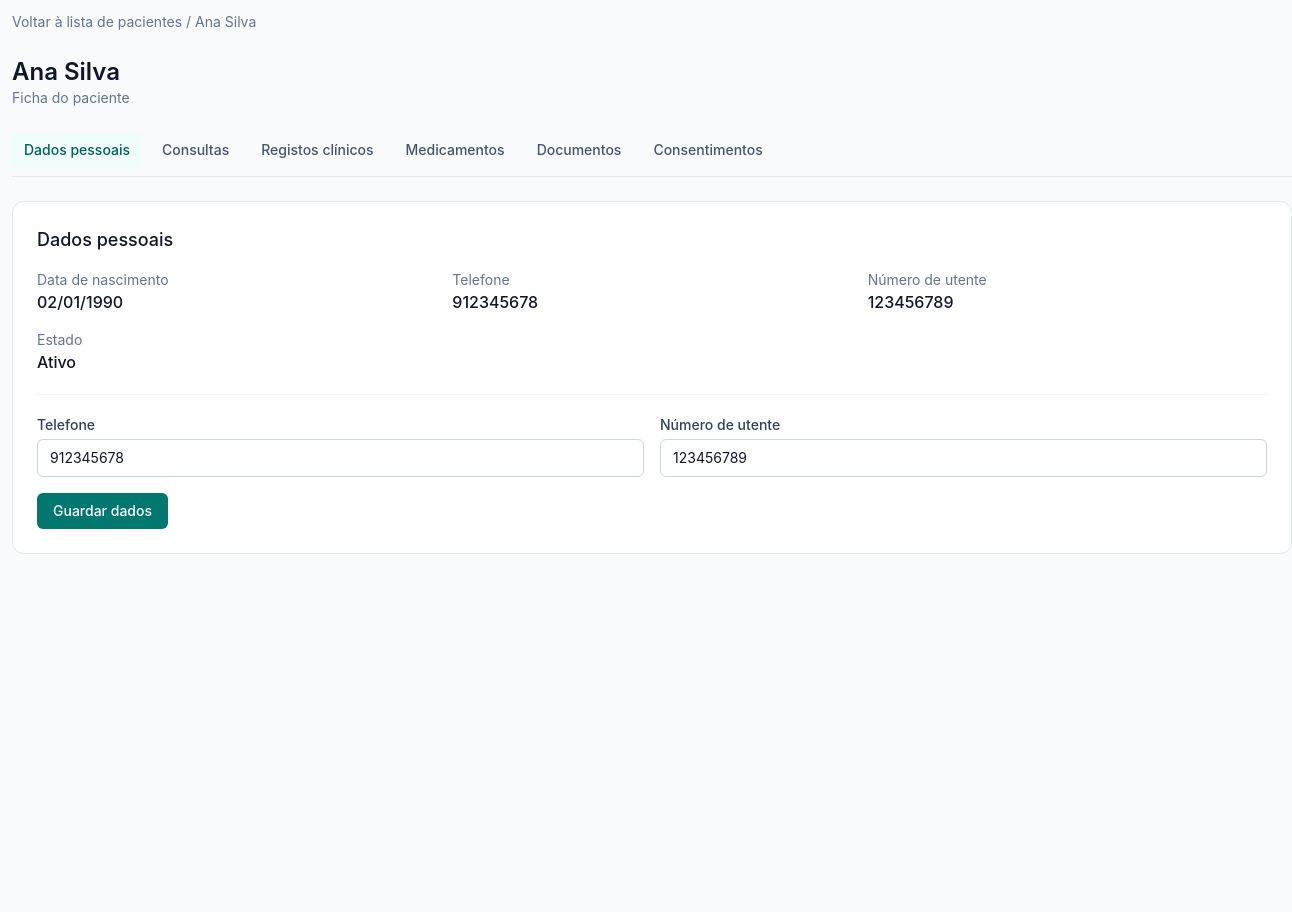
Test: PatientDetailPage documents tab › lets a doctor open the patient documents with upload controls and the patient name
Click the tab "Documentos".
click(579, 150)  # box [525,132,633,168]
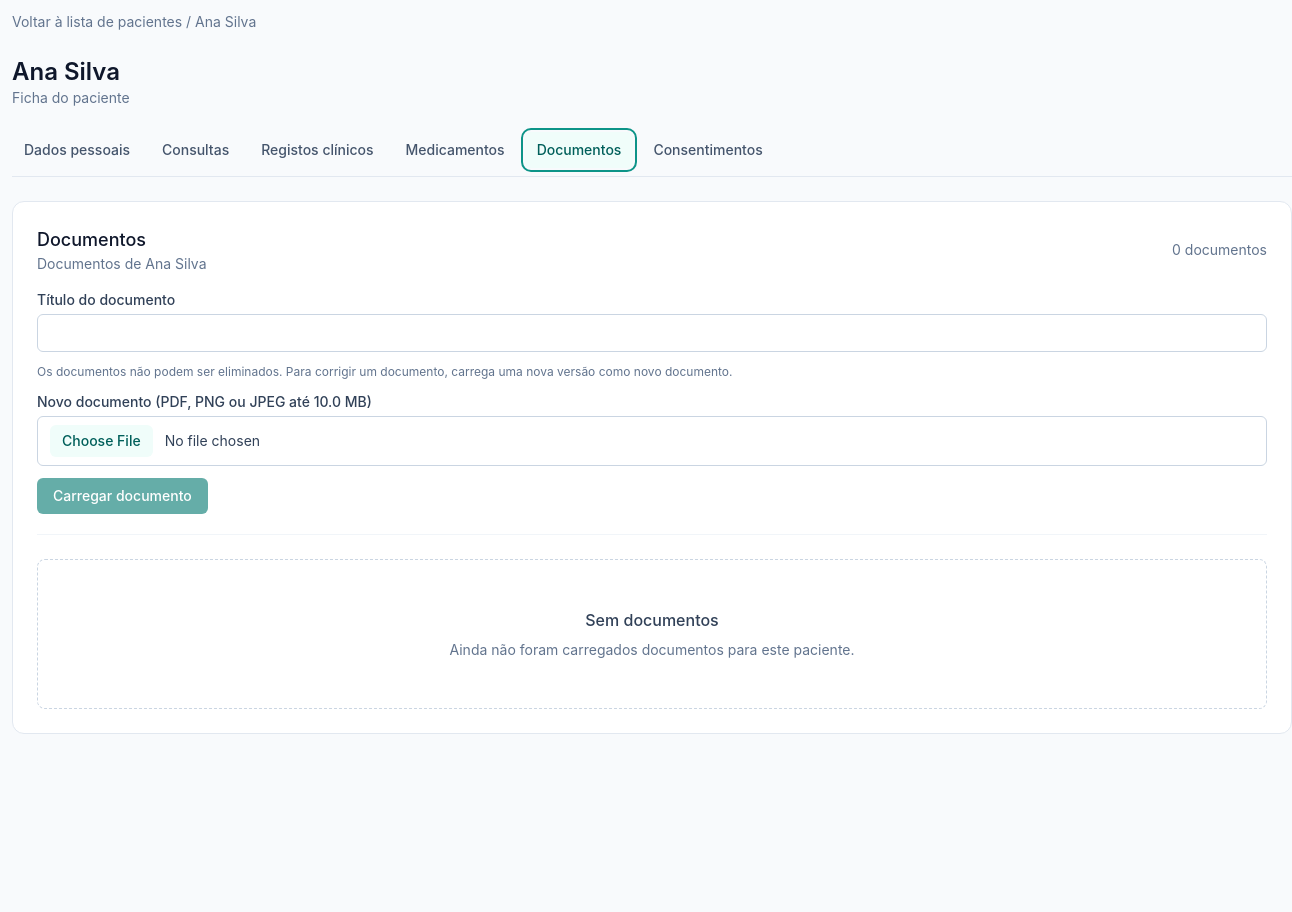
Now the heading "Documentos" is shown, box [37,229,146,250]
Now the text "Documentos de Ana Silva" is shown, box [37,254,206,274]
Now the form named "Carregar documento" is shown, box [37,290,1267,535]
